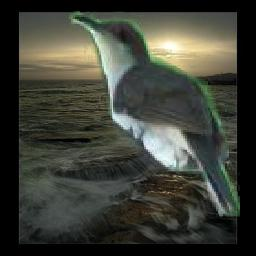Cuckoo: (70, 11, 241, 217)
